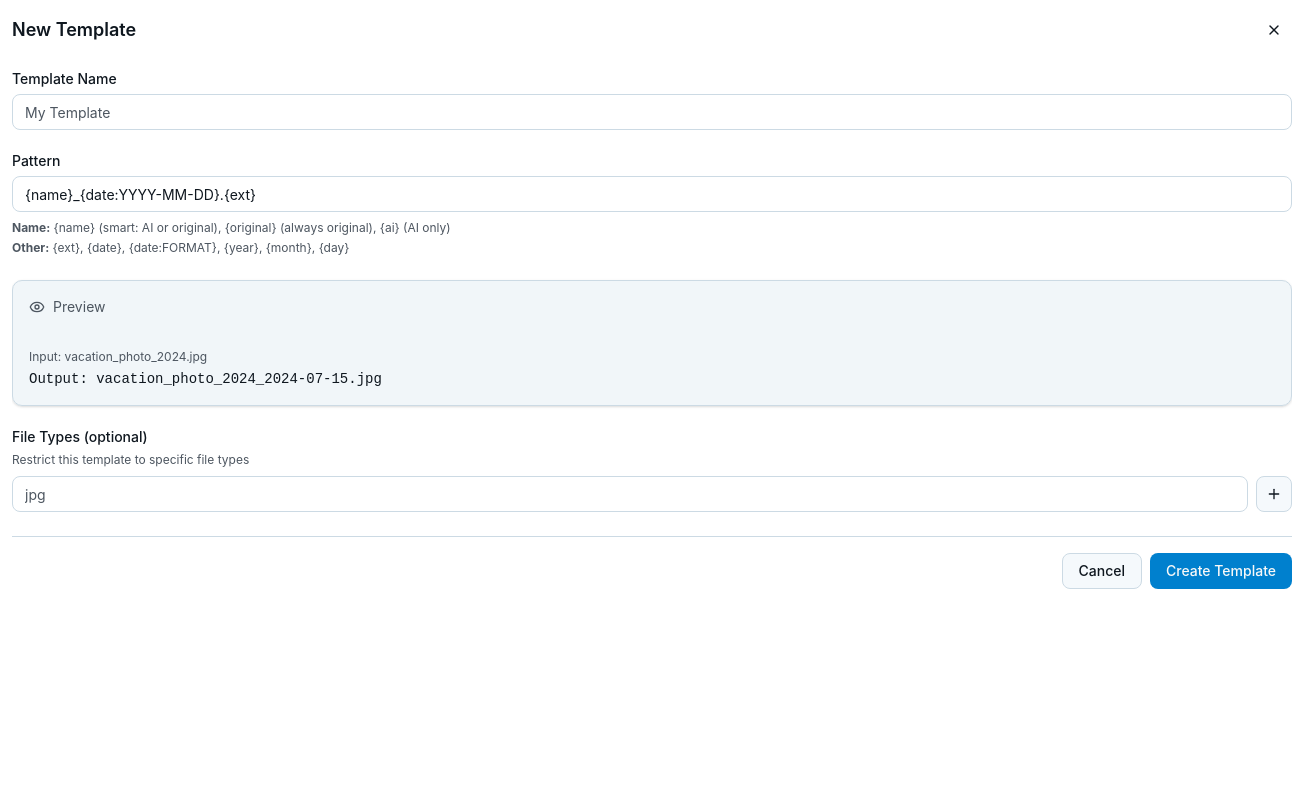
TemplateEditor › file types management › adds file type when button is clicked
The image size is (1304, 812).
Type "pdf" into the field with test id "file-type-input".
click(630, 494); type("pdf")  # box [12,476,1248,512]
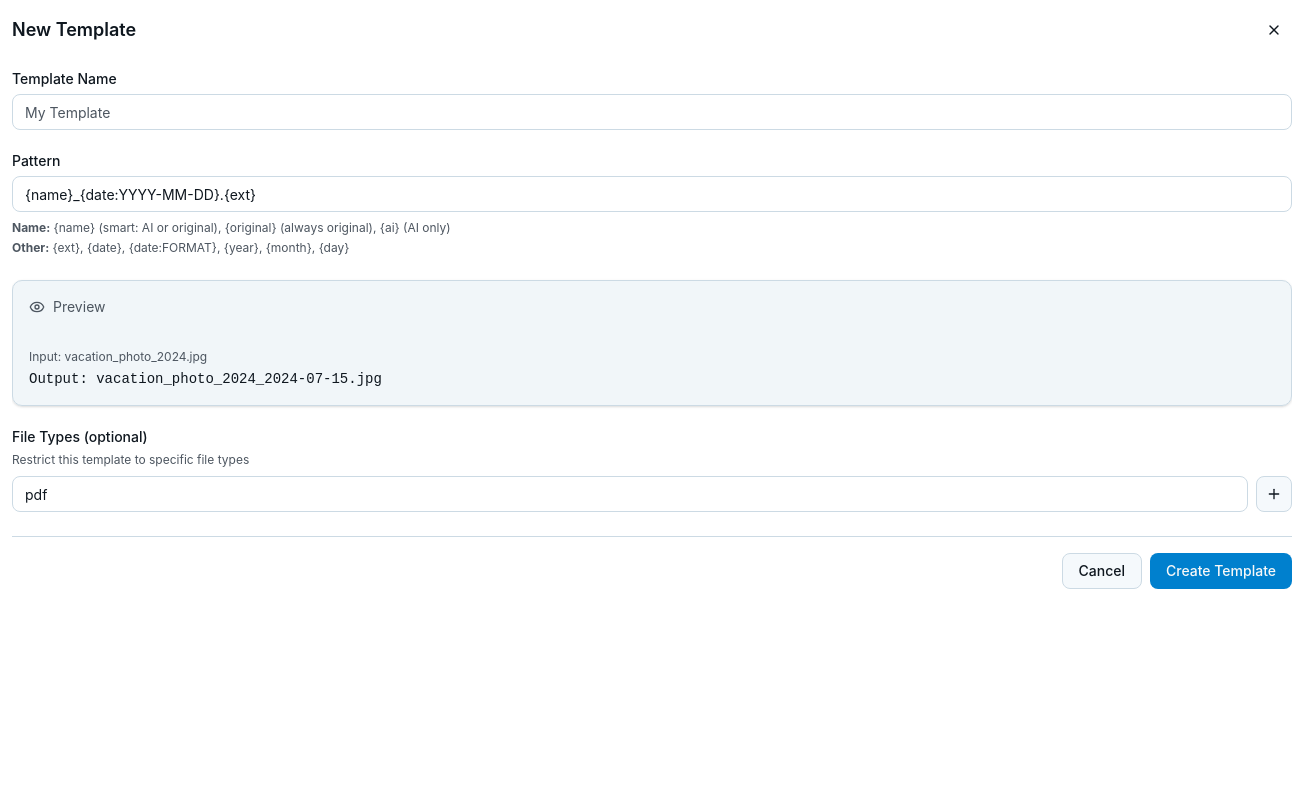
Click the button with test id "add-file-type".
click(1274, 494)  # box [1256,476,1292,512]
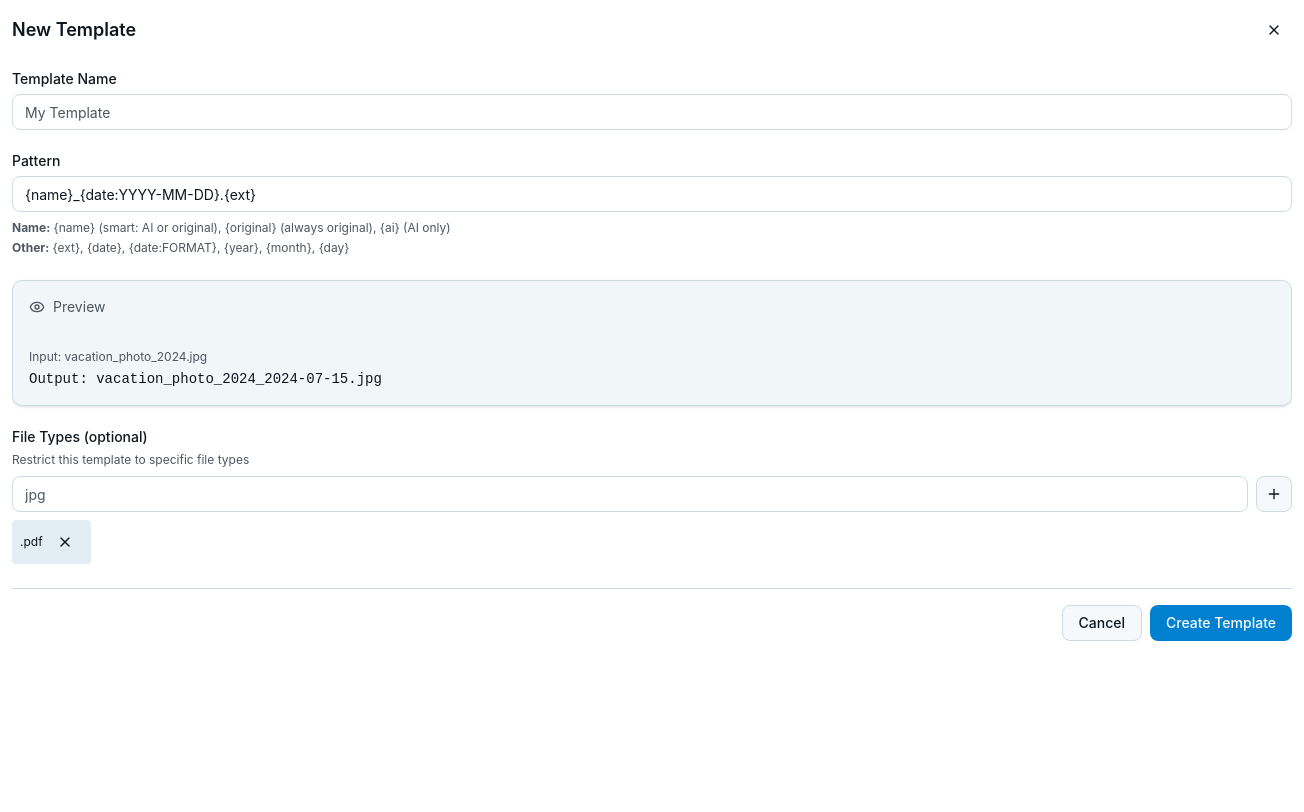
Expected: the text ".pdf" is shown, [12,520,91,564]
